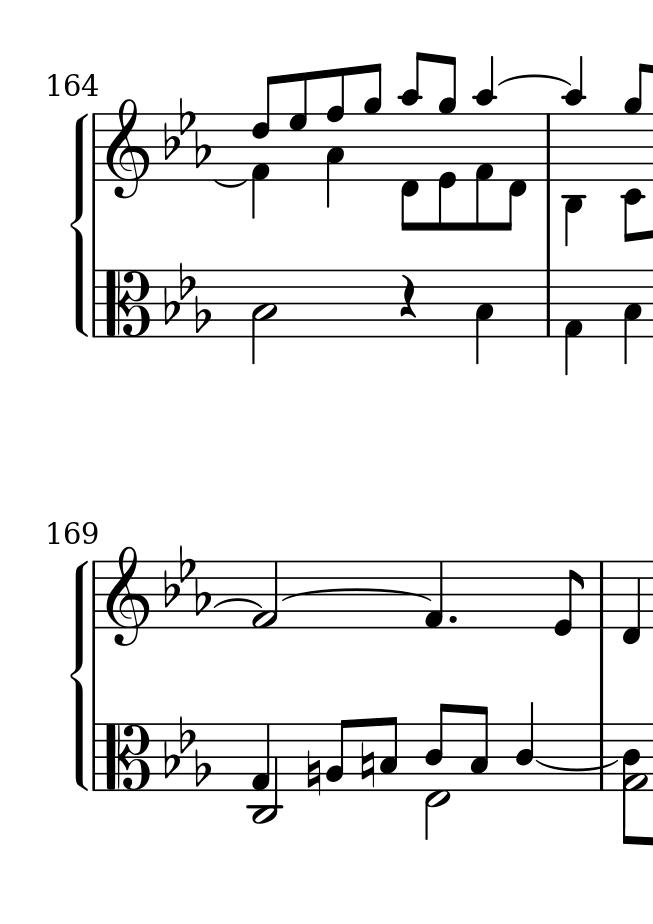1: (46, 520, 60, 546), (47, 73, 60, 99)
2_1: (251, 559, 279, 629)
2_3: (250, 268, 279, 366)
4: (82, 72, 99, 100)
4_-3: (562, 112, 585, 247)
4_11: (561, 55, 585, 181)
4_3: (622, 268, 643, 363), (474, 268, 494, 363)
4_4: (515, 702, 535, 791)
6: (61, 520, 81, 546), (80, 520, 99, 546), (63, 72, 80, 99)
8_-1: (504, 113, 527, 232), (400, 113, 419, 232), (619, 557, 643, 646)
8_-2: (621, 112, 647, 241)
8_0: (552, 559, 584, 637), (438, 113, 457, 232)
8_1: (474, 112, 495, 232), (564, 268, 584, 379), (424, 558, 445, 630)
8_11: (400, 49, 424, 180)
8_2: (326, 718, 352, 790)
8_3: (468, 705, 489, 791), (378, 716, 399, 792)
8_7: (289, 71, 308, 181)
8_9: (624, 60, 651, 180), (436, 53, 457, 183), (362, 62, 384, 181)
Brace: (70, 113, 90, 338)
Cclef: (102, 267, 150, 337), (103, 722, 151, 790)
E_F: (163, 543, 212, 617), (163, 261, 212, 333), (164, 97, 212, 169), (163, 717, 212, 787)
Gclef: (105, 541, 149, 648), (106, 94, 149, 201)
Natural: (359, 740, 376, 790), (305, 749, 321, 797)
Rests4: (398, 271, 417, 319)
Single_barline: (594, 723, 610, 788), (540, 271, 556, 335), (88, 114, 103, 181), (88, 269, 102, 339), (541, 114, 555, 182), (87, 723, 101, 791), (88, 562, 102, 628), (596, 561, 610, 626)
Slur: (282, 587, 433, 603), (498, 73, 571, 87), (535, 759, 617, 770), (213, 597, 260, 608), (214, 178, 247, 187)
dot: (447, 613, 459, 625)
